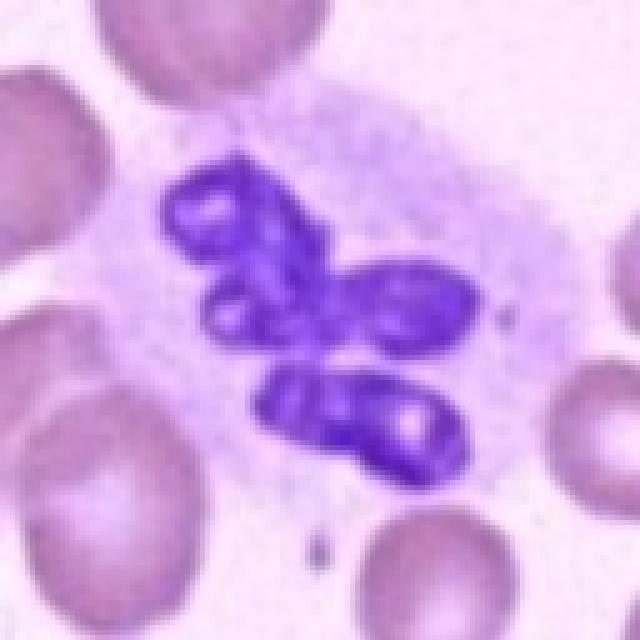neutro: (126, 78, 604, 570)
